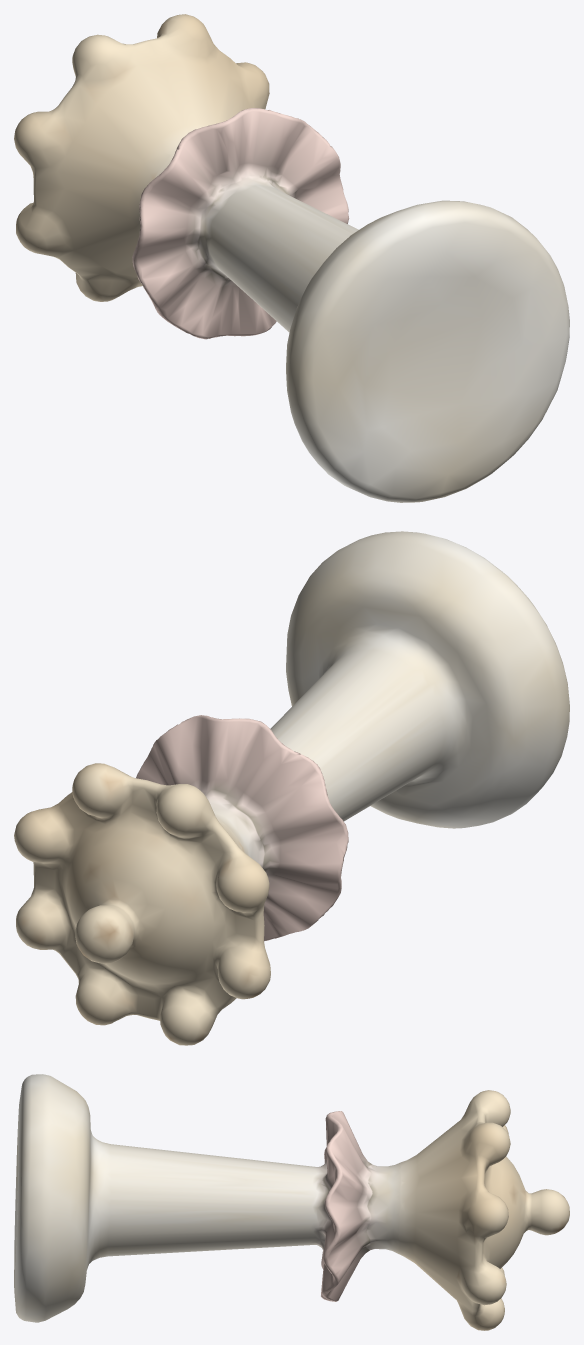
File: queen-light-fallen.glb
3 views of the same model, one above another, from view 1: azimuth 30°, elevation 25°; view 2: azimuth 150°, elevation 25°; view 3: azimuth 270°, elevation 25° (orthographic). The views are drawn at different scales.
Parts seen in each view (by area): view 1: body; view 2: body; view 3: body.
Boxes of the visible parts, x1=… form: body: x1=14, y1=14, x2=569, y2=502; body: x1=14, y1=531, x2=569, y2=1045; body: x1=14, y1=1074, x2=569, y2=1330.
Bounding box in the file's own units: 2.27 × 2.29 × 5.08.
